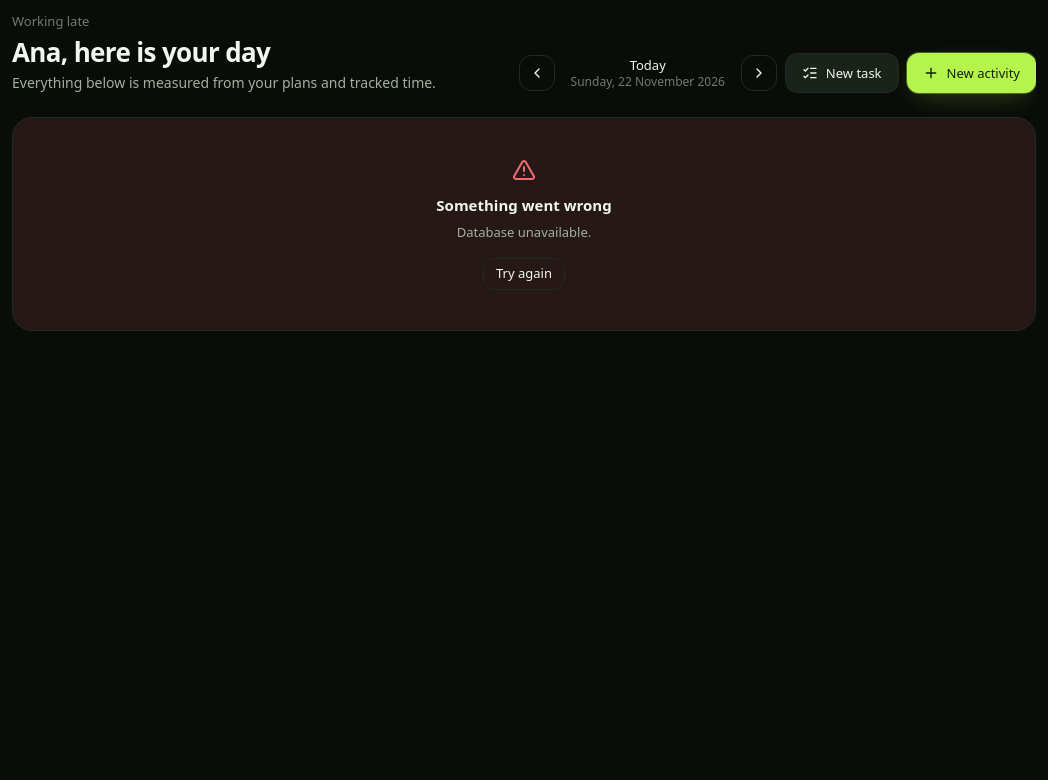
Dashboard states › shows an error with a retry that refetches
expect the message shows "Database unavailable.": met, box [457,222,591,240]
Click the button "Try again": (524, 274) [483,258,565,290]
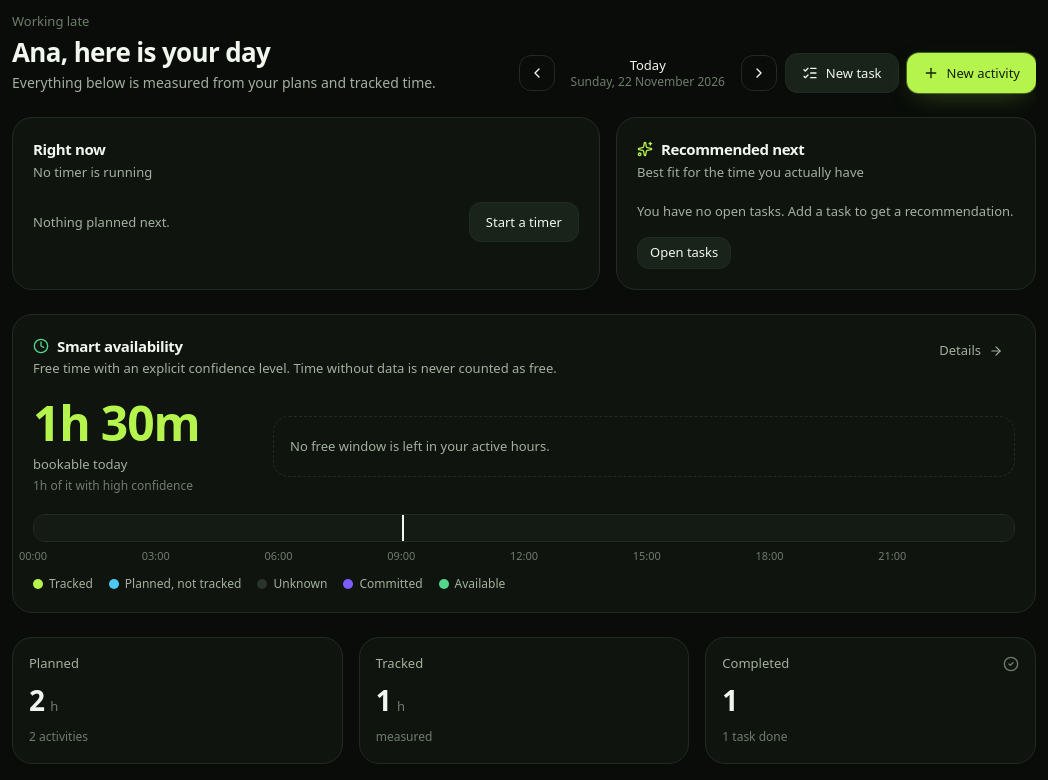
expect the heading "Smart availability" is shown: met, box [33,336,183,356]
